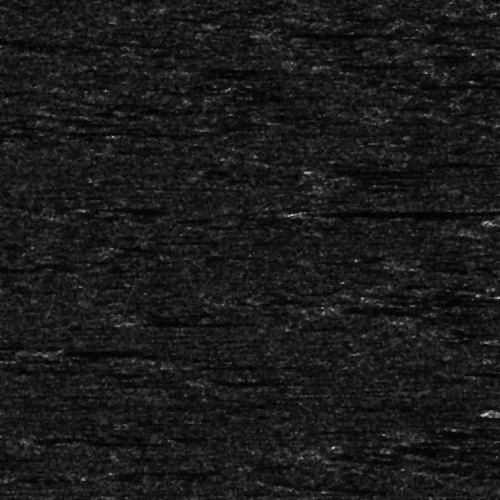rock: (31, 345, 84, 356), (247, 28, 300, 37)
shadow: (58, 345, 197, 356), (274, 28, 429, 37)
